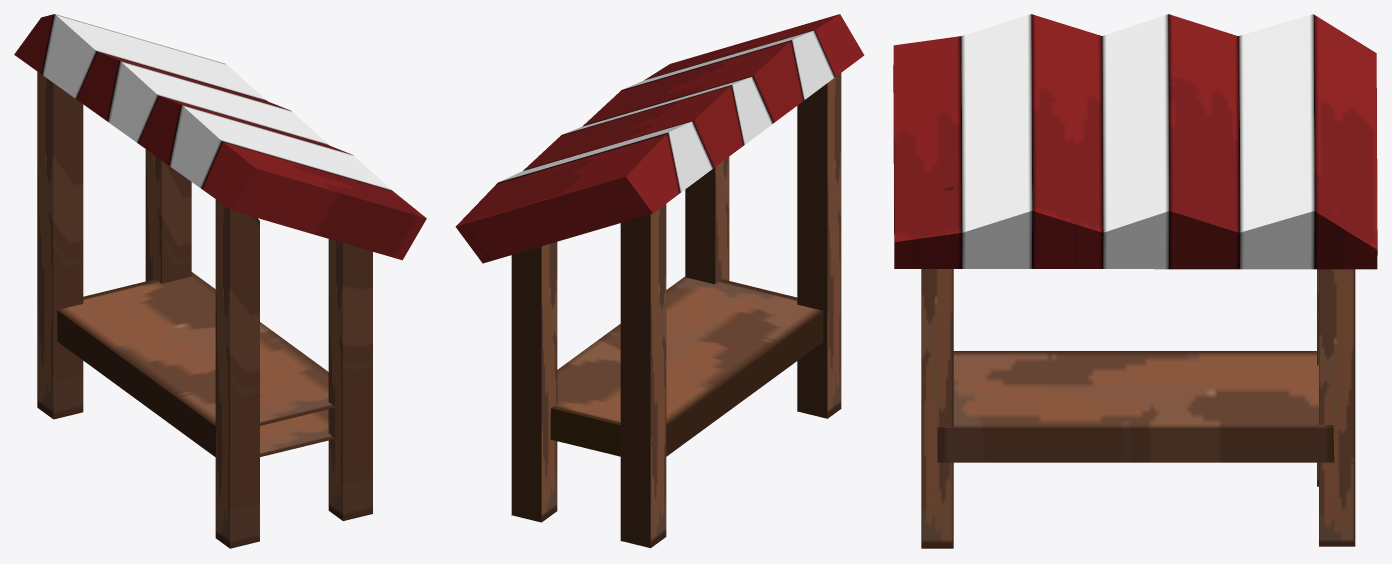
Rendered from Red_Stall.fbx.
3 renders of one model, left to right at view 1: azimuth 30°, elevation 25°; view 2: azimuth 150°, elevation 25°; view 3: azimuth 270°, elevation 25°, orthographic. The views are drawn at different scales.
Parts seen in each view (by area): view 1: Plane.001, Plane.005, Plane, Plane.004, Plane.007, Plane.006; view 2: Plane.001, Plane.005, Plane.004, Plane, Plane.006, Plane.007; view 3: Plane.001, Plane.005, Plane.006, Plane.007.
Boxes of the visible parts, x1=… form: Plane.001: x1=14, y1=14, x2=426, y2=260; Plane.005: x1=57, y1=272, x2=335, y2=456; Plane: x1=215, y1=199, x2=259, y2=548; Plane.004: x1=37, y1=71, x2=83, y2=419; Plane.007: x1=328, y1=182, x2=372, y2=520; Plane.006: x1=145, y1=149, x2=191, y2=283; Plane.001: x1=455, y1=14, x2=864, y2=263; Plane.005: x1=550, y1=276, x2=823, y2=456; Plane.004: x1=620, y1=204, x2=666, y2=548; Plane: x1=797, y1=73, x2=841, y2=418; Plane.006: x1=511, y1=242, x2=557, y2=522; Plane.007: x1=685, y1=65, x2=729, y2=284; Plane.001: x1=893, y1=14, x2=1377, y2=269; Plane.005: x1=937, y1=351, x2=1334, y2=462; Plane.006: x1=1319, y1=269, x2=1355, y2=546; Plane.007: x1=921, y1=187, x2=953, y2=548.
Size of the model in its own units: 98.11 by 193 by 185.
6 materials, 6 textured.
